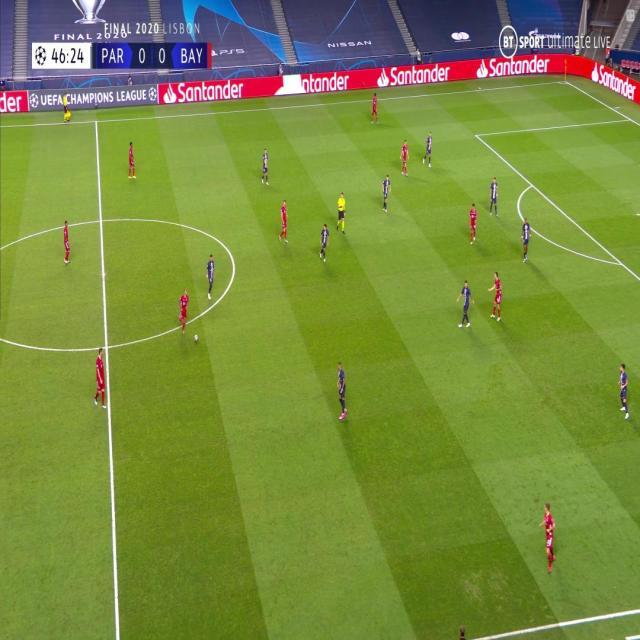ball: (193, 332, 199, 342)
player: (538, 502, 557, 575), (456, 278, 474, 329), (93, 347, 107, 409), (488, 269, 504, 321), (335, 360, 348, 421), (617, 363, 631, 419), (178, 287, 190, 335), (278, 199, 290, 245), (62, 218, 73, 265), (521, 217, 532, 263), (318, 222, 330, 262), (206, 252, 216, 299), (399, 138, 410, 177), (489, 176, 499, 218), (422, 131, 434, 166), (468, 203, 478, 244), (381, 173, 391, 214), (127, 141, 137, 180), (261, 147, 270, 185), (370, 91, 379, 124)
referee: (336, 191, 348, 235), (62, 93, 72, 123)
